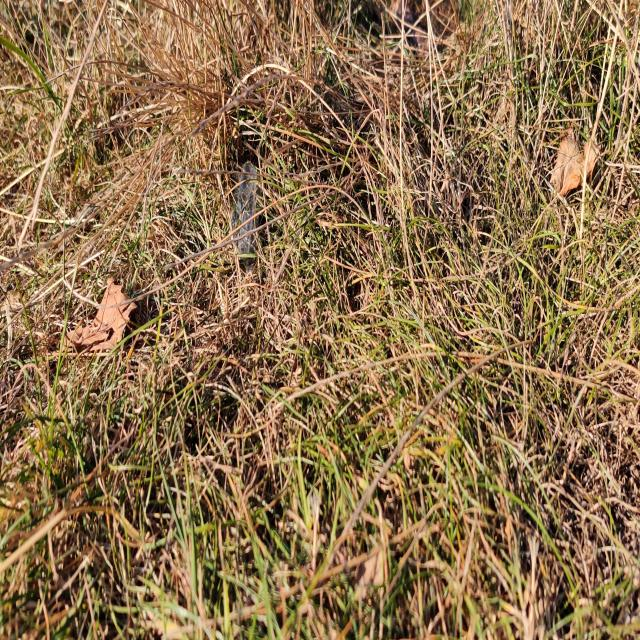litter: (229, 162, 264, 267)
